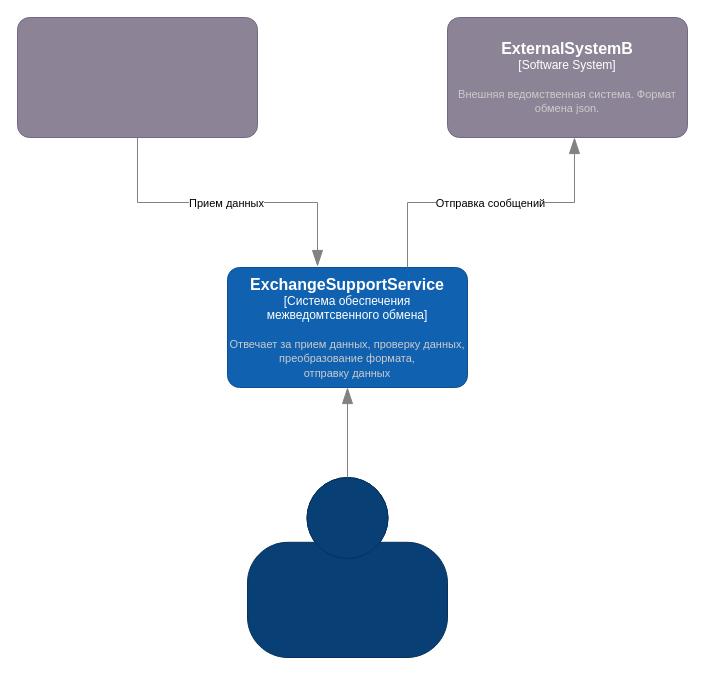
This 705x675 diagram has some shape labels left out. Here are the shapes that lost their labels. From the top down, the centre of each, then its label:
At pixel 137 77: "ExternalSystemA [Software System] Внешняя ведомственная система.".
At pixel 347 567: "Administrator [Person] Может влиять на прием, отправку сообщений.".
